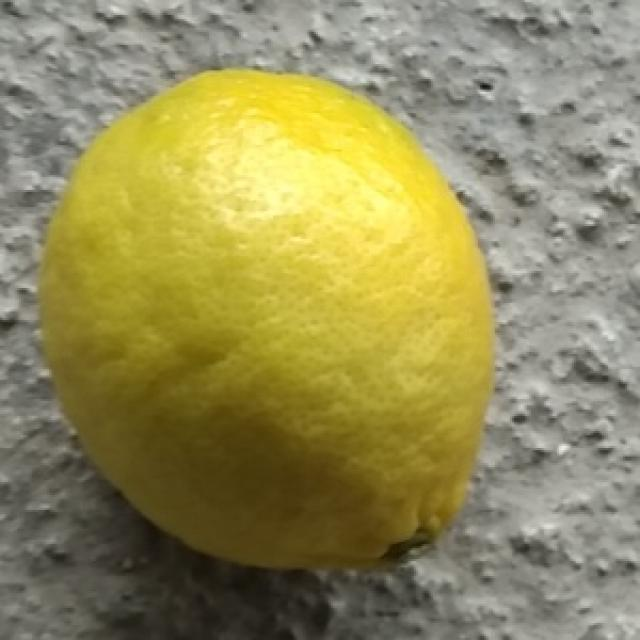Ripe: (32, 60, 501, 578)
